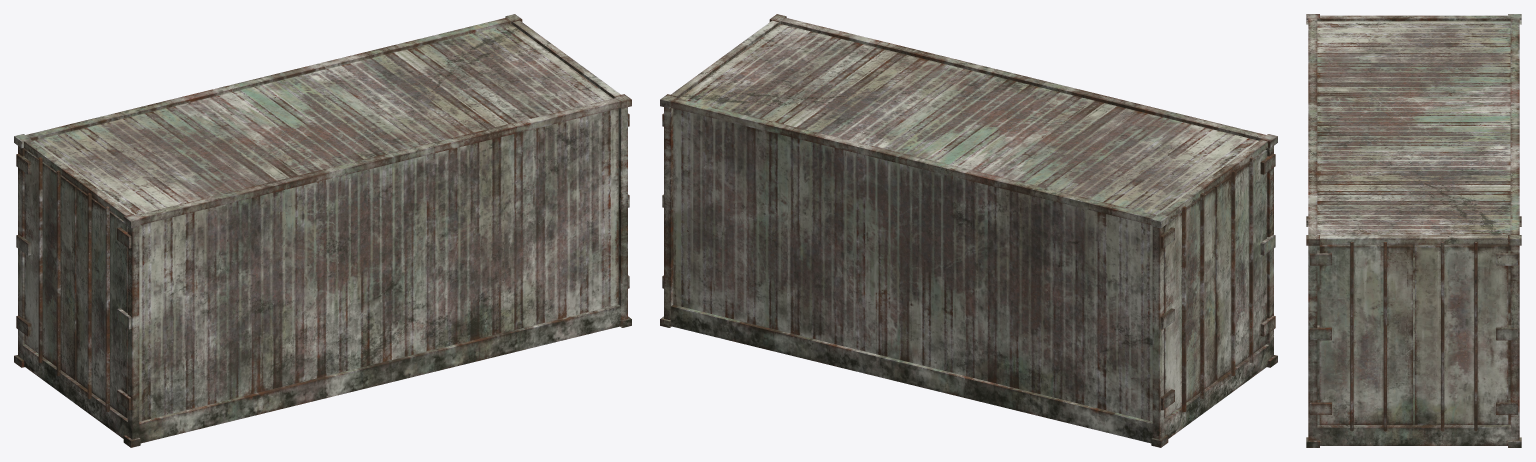
Rendered from Component_ContainerWhite_grp.fbx.
3 renders of one model, left to right at view 1: azimuth 30°, elevation 25°; view 2: azimuth 150°, elevation 25°; view 3: azimuth 270°, elevation 25°, orthographic. The views are drawn at different scales.
Visible parts, largest first — view 1: containerWhite_containerWhite; view 2: containerWhite_containerWhite; view 3: containerWhite_containerWhite.
Boxes of the visible parts, <box> form: containerWhite_containerWhite: <box>14,14,631,447</box>; containerWhite_containerWhite: <box>660,14,1277,447</box>; containerWhite_containerWhite: <box>1306,14,1521,447</box>.
Bounding box in the file's own units: 606 × 262 × 245.
